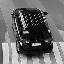mobil: (10, 6, 53, 56)
